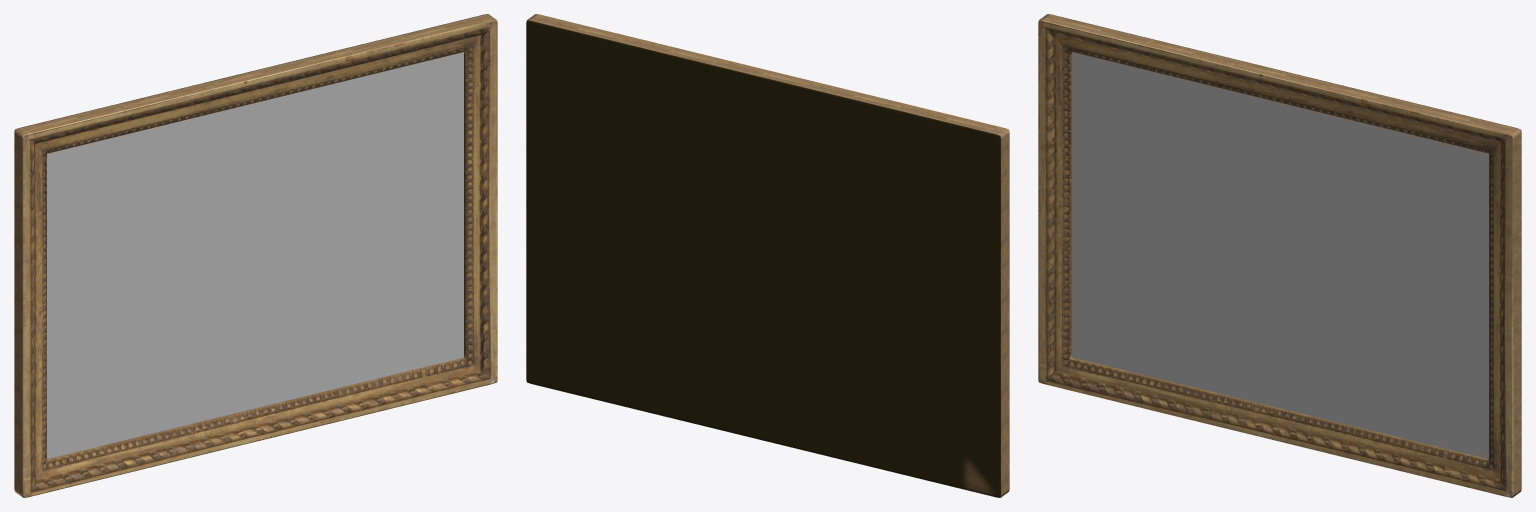
The model's file is frame.fbx.
The picture shows the model from 3 angles, left to right: view 1: azimuth 30°, elevation 25°; view 2: azimuth 150°, elevation 25°; view 3: azimuth 330°, elevation 25°; orthographic projection.
Parts seen in each view (by area): view 1: canvas, frame; view 2: frame; view 3: canvas, frame.
Boxes of the visible parts, x1=… form: canvas: x1=47, y1=52, x2=463, y2=458; frame: x1=14, y1=14, x2=497, y2=497; frame: x1=526, y1=14, x2=1009, y2=497; canvas: x1=1072, y1=52, x2=1488, y2=458; frame: x1=1038, y1=14, x2=1521, y2=497.
Bounding box in the file's own units: 63.53 × 46.41 × 2.
